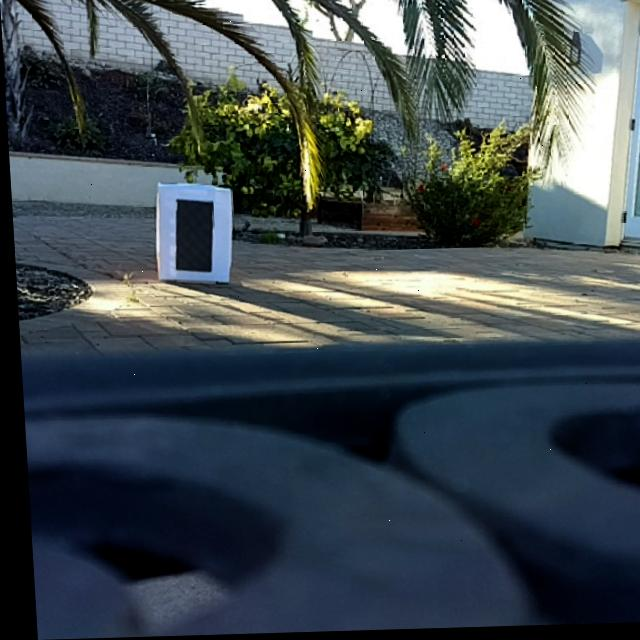led: (171, 199, 212, 274)
